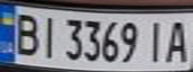3: (60, 15, 84, 62), (81, 16, 103, 63)
6: (100, 17, 121, 64)
9: (118, 18, 142, 64)
A: (163, 16, 193, 64)
B: (9, 9, 42, 56)
I: (142, 17, 169, 64), (36, 11, 60, 60)
